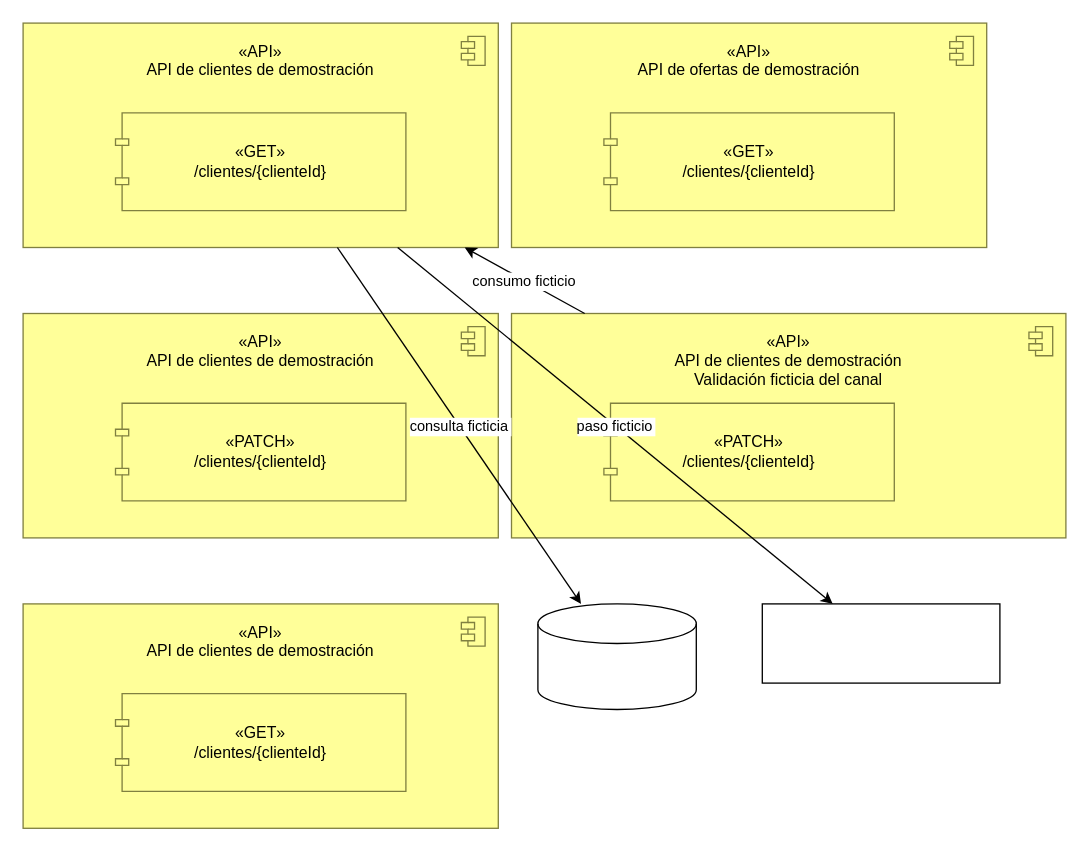
Some shapes in this 1089 by 851 pixel diagram are drawn without their labels. The centre of each missing label's shape, as x and y in pixels:
Caché ficticia: point 616,656
Validación manual ficticia: point 880,643
